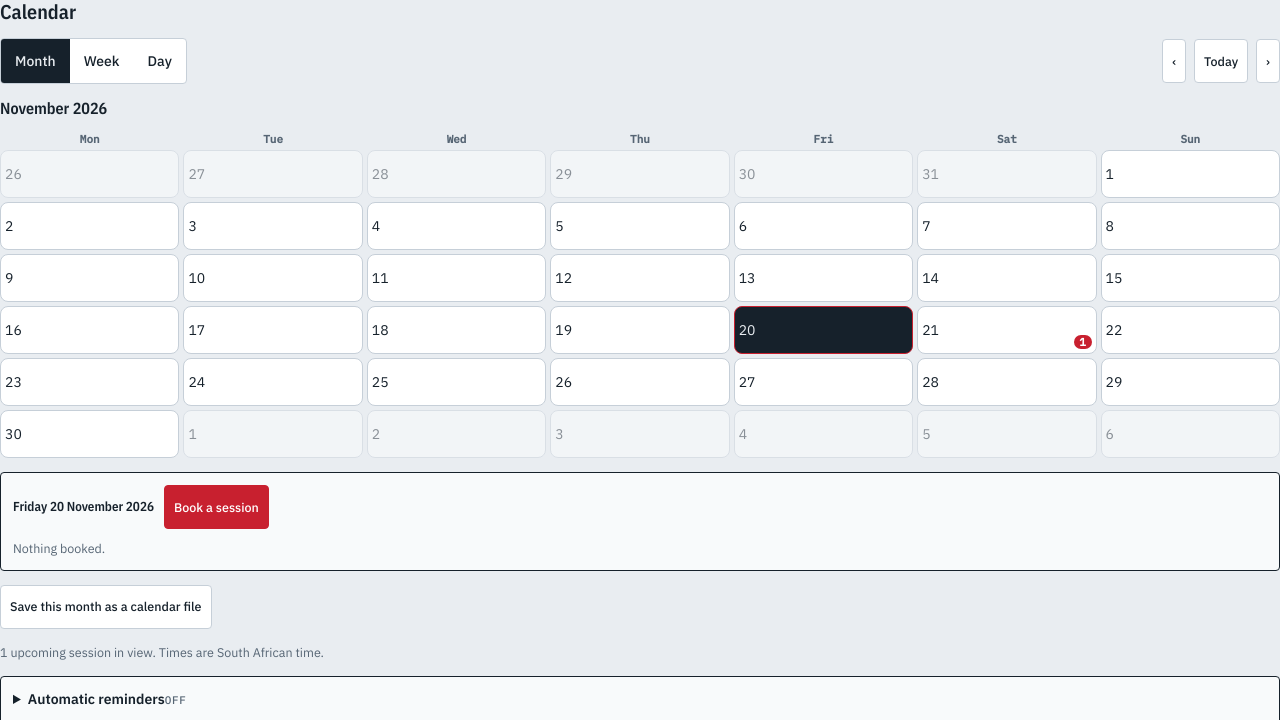
Scenario: the calendar › tapping another day shows that day, and Today comes back
expect the text "Nothing booked." is shown: met, box [13,540,105,556]
Click the cell named "1 session": {"x": 1007, "y": 330} [917,306,1096,354]
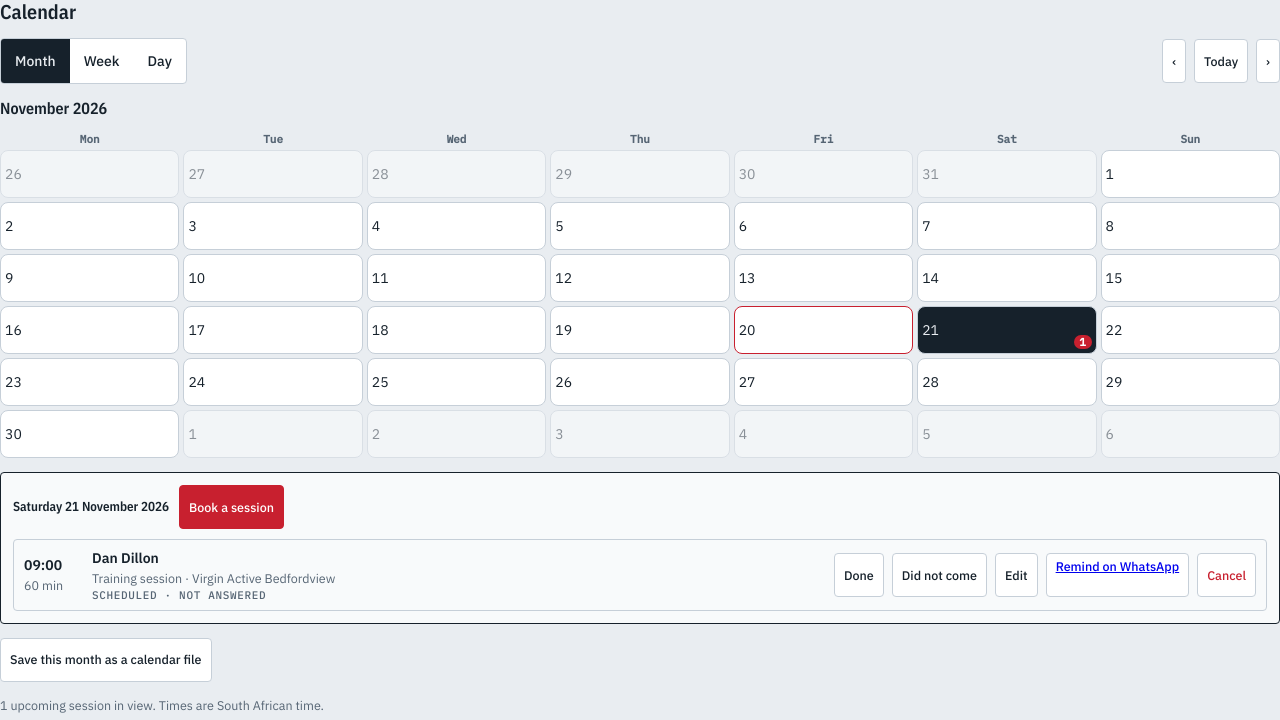
expect the list named "Sessions on" shows "Dan Dillon": met, box [92,549,159,567]
Click the button "Today": {"x": 1221, "y": 61} [1194,39,1248,83]
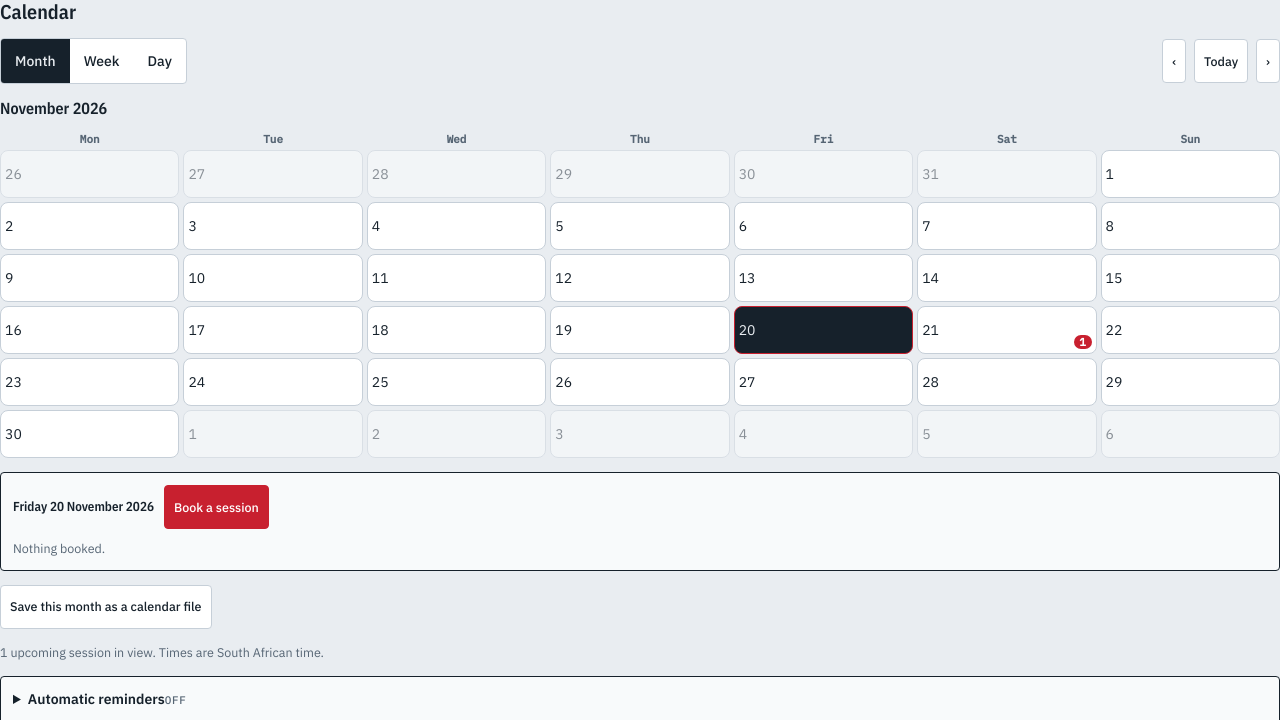
expect the text "Nothing booked." is shown: met, box [13,540,105,556]
